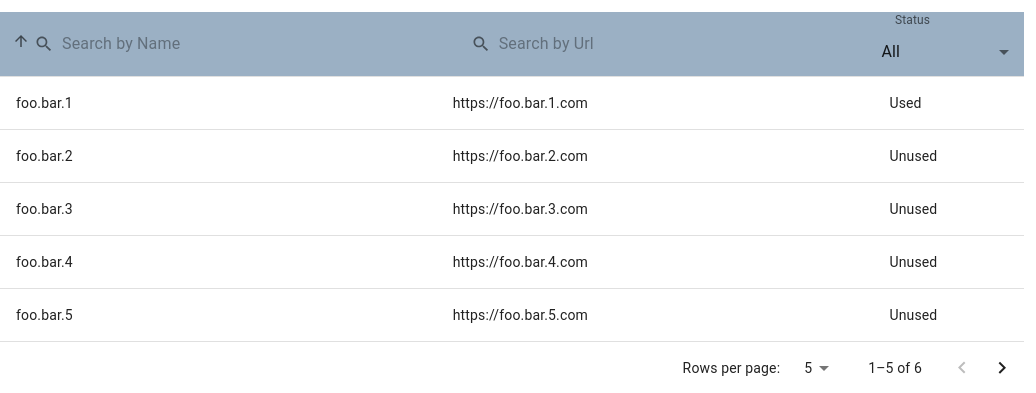
Table Sorting › should sort by name ascending
The image size is (1036, 393).
// initially sorted ascending, so will have to sort descending first
Click the button named "Sort by Name Descending".
click(21, 41)  # box [12,32,30,50]
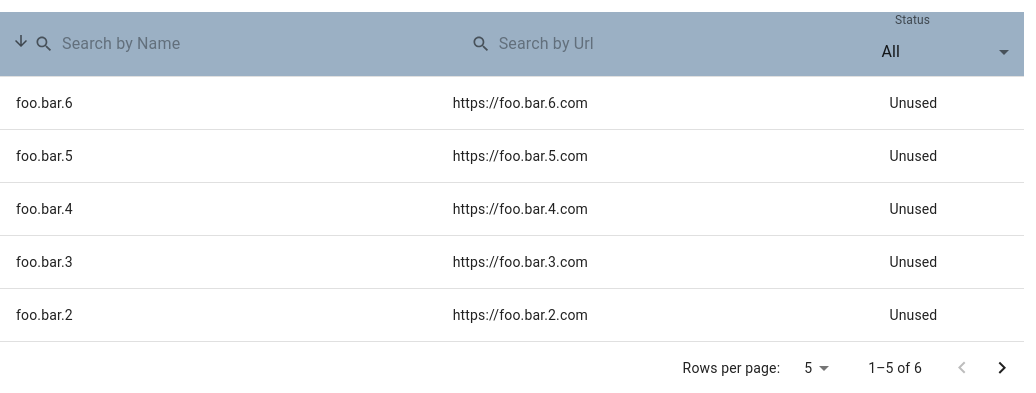
Click the button named "Sort by Name Ascending".
click(21, 41)  # box [12,32,30,50]
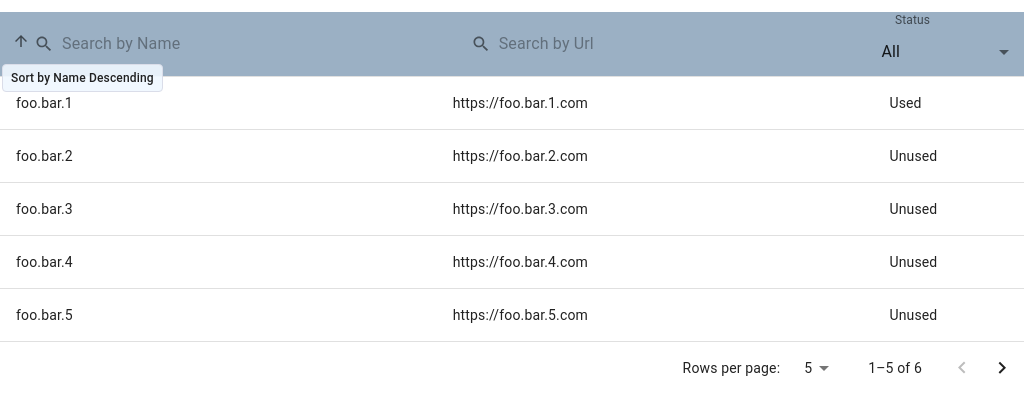
Expected: the number of rows is 6, [0,12,1024,76]; [0,76,1024,130]; [0,130,1024,182]; [0,182,1024,236]; [0,236,1024,288]; [0,289,1024,342]
Expected: the row "foo.bar.1 https://foo.bar.1.com Used" is shown, [0,76,1024,130]
